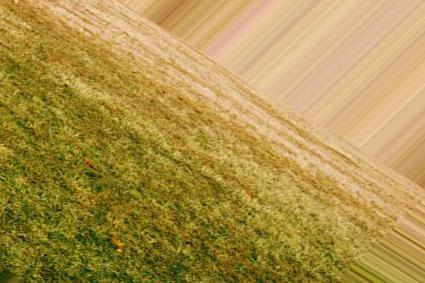patch: (125, 56, 264, 154), (285, 134, 334, 208), (54, 23, 104, 76), (109, 18, 177, 52)
